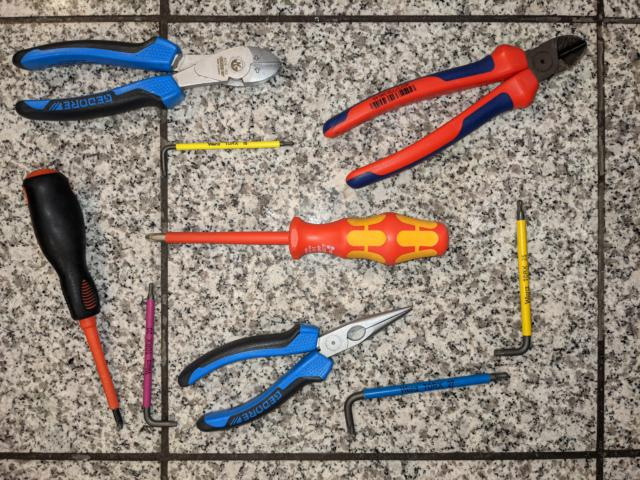Inbusschlüssel: (341, 367, 514, 442), (488, 198, 536, 360), (135, 279, 180, 430), (157, 136, 298, 180)
Schraubendreher: (18, 164, 128, 431), (142, 209, 452, 269)
Seitenschneider: (320, 33, 591, 193), (10, 32, 285, 124)
Zange: (176, 302, 417, 435)
